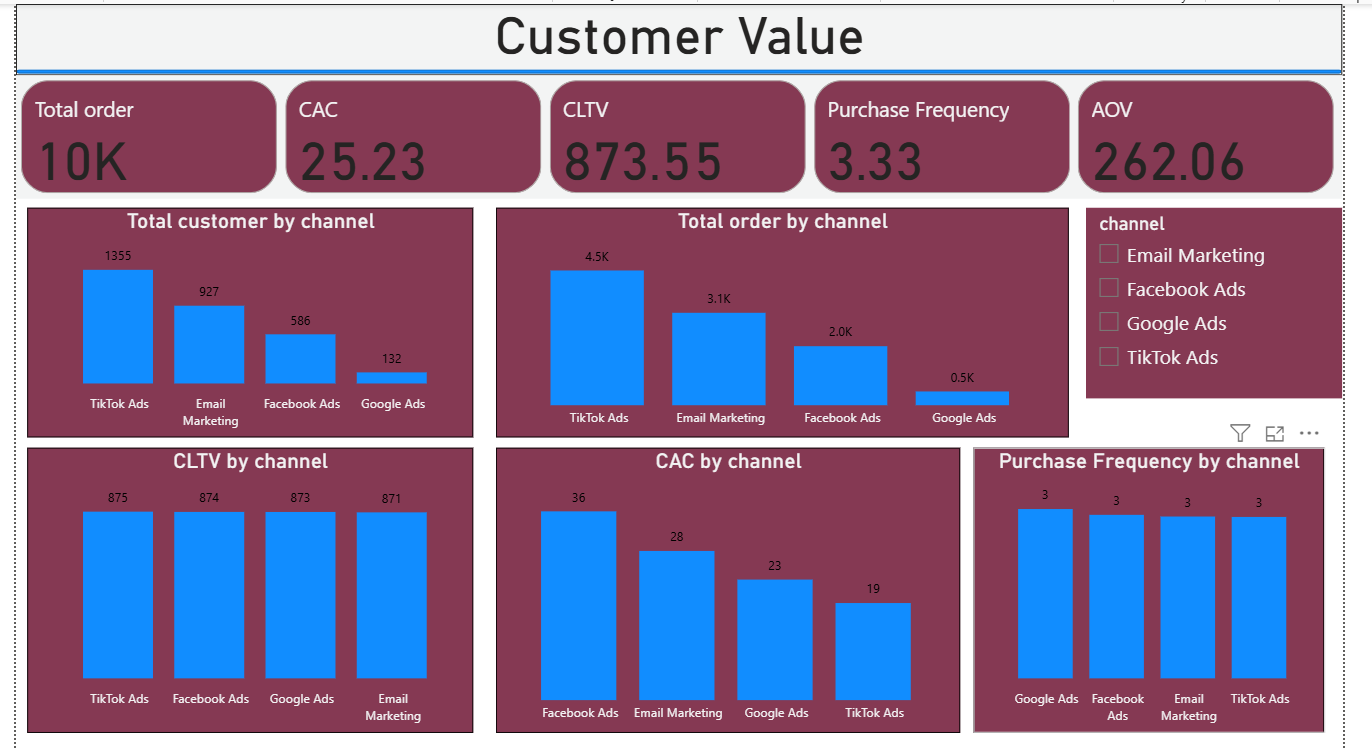

The dashboard page shown, as its layout file describes it:
{"tool":"powerbi","page":{"name":"Page 2","canvas":[1280,720],"ordinal":1},"visuals":[{"type":"shape","title":"Customer Value ","box":[0,0,1280.3,68.6],"z":0},{"type":"cardVisual","fields":{"Data":["measure.Total order","measure.CAC","measure.CLTV","measure.Purchase Frequency","measure.AOV"]},"box":[0,68.6,1280.3,119.4],"z":1000},{"type":"columnChart","fields":{"Category":["campaigns.channel"],"Y":["measure.Total customer"]},"box":[11.4,196.8,430.1,222],"z":2000},{"type":"columnChart","fields":{"Category":["campaigns.channel"],"Y":["measure.Total order"]},"box":[462.9,196.8,552.5,222],"z":3000},{"type":"columnChart","fields":{"Category":["campaigns.channel"],"Y":["measure.CLTV"]},"box":[11.4,428.9,430.1,275],"z":4000},{"type":"columnChart","fields":{"Category":["campaigns.channel"],"Y":["measure.CAC"]},"box":[462.9,428.9,447.8,275],"z":5000},{"type":"columnChart","fields":{"Category":["campaigns.channel"],"Y":["measure.Purchase Frequency"]},"box":[924.6,428.9,338,275],"z":6000},{"type":"slicer","fields":{"Values":["campaigns.channel"]},"box":[1033,196.8,247.2,184.2],"z":7000}]}

Visuals, with their boxes in screenshot pixels (x1, y1, x2, y2), scaled from the page's 1280x720 canvas onto the 1372x750 screenshot:
"Customer Value " shape: [x1=0, y1=0, x2=1371, y2=71]
cardVisual - measure.Total order x measure.CAC: [x1=0, y1=71, x2=1371, y2=196]
columnChart - campaigns.channel x measure.Total customer: [x1=12, y1=205, x2=473, y2=436]
columnChart - campaigns.channel x measure.Total order: [x1=496, y1=205, x2=1088, y2=436]
columnChart - campaigns.channel x measure.CLTV: [x1=12, y1=447, x2=473, y2=733]
columnChart - campaigns.channel x measure.CAC: [x1=496, y1=447, x2=976, y2=733]
columnChart - campaigns.channel x measure.Purchase Frequency: [x1=991, y1=447, x2=1353, y2=733]
slicer - campaigns.channel: [x1=1107, y1=205, x2=1371, y2=397]
